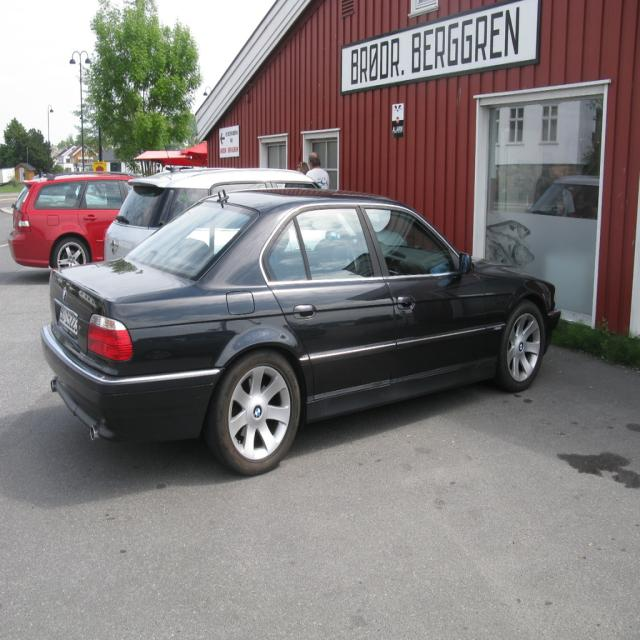car: (38, 188, 562, 469)
